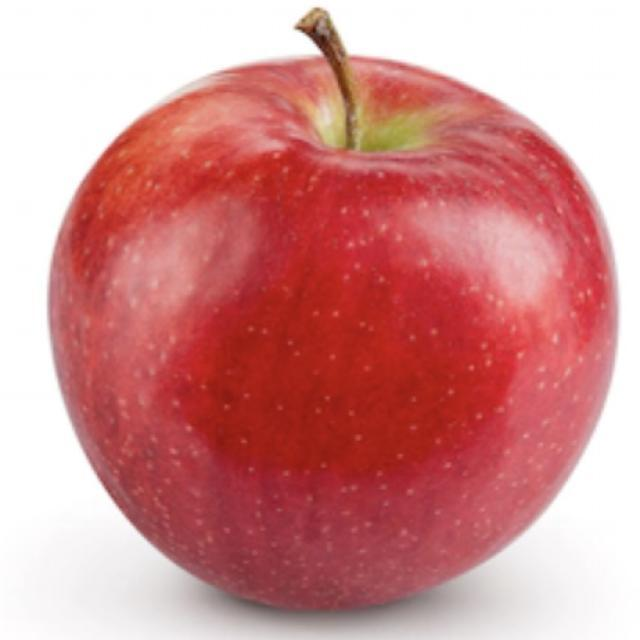Fresh Apple: (73, 70, 607, 605)
